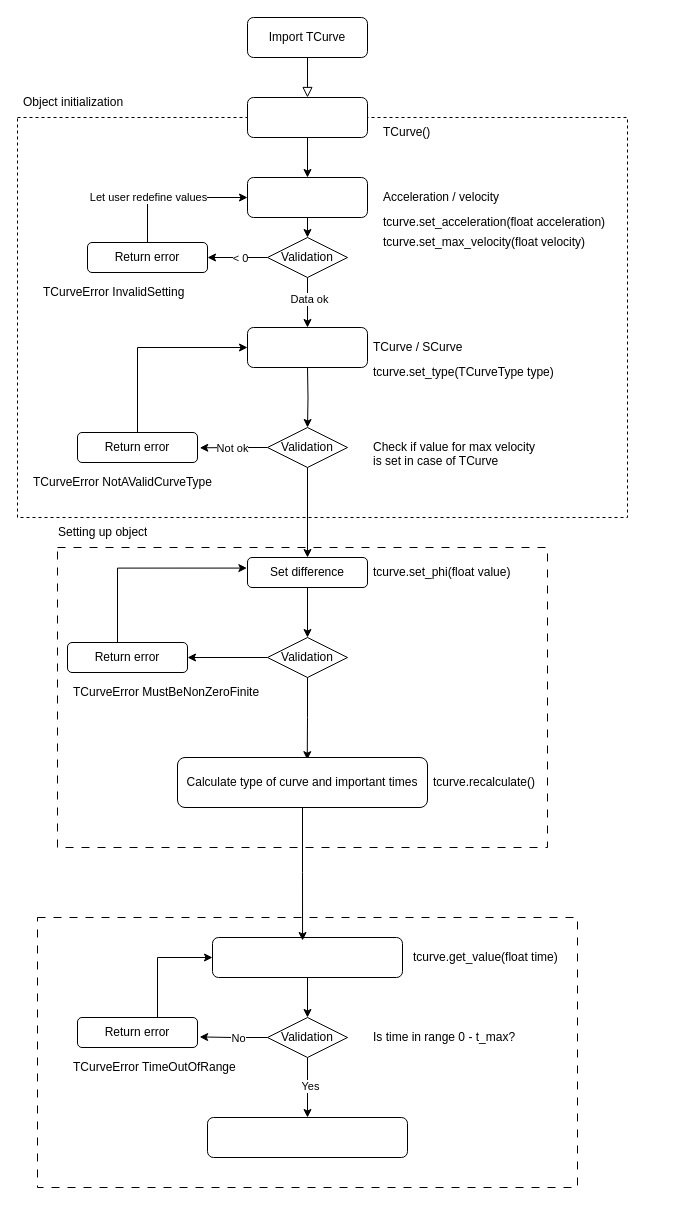
Image size: 685x1205. Some labels were removed from this diagram. Each missing label, with the centre of its shape:
Ask for value in time: pixel 307 957
Create object instance: pixel 307 117
Return value: pixel 307 1137
Set maximal Values: pixel 307 197
Set TCurve type: pixel 307 347
